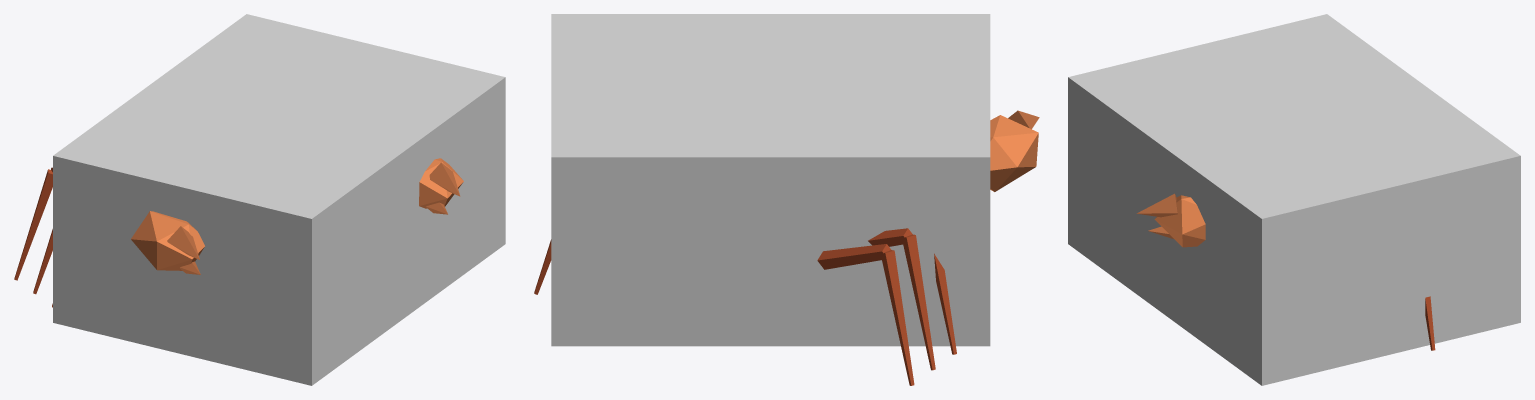
Rendered from plains_giant_crab.fbx.
3 views of the same model, side by side, from view 1: azimuth 30°, elevation 25°; view 2: azimuth 150°, elevation 25°; view 3: azimuth 270°, elevation 25° (orthographic). The views are drawn at different scales.
Visible parts, largest first — view 1: Root__0.00_1.99_-1.40__8.41_4.00_6.49, ArmR__Body__1.79_2.20_-1.14, ArmL__Body__-1.79_2.20_-1.14, LegR3__Body__1.88_1.88_1.22; view 2: Root__0.00_1.99_-1.40__8.41_4.00_6.49, ArmR__Body__1.79_2.20_-1.14, LegR3__Body__1.88_1.88_1.22, LegR2__Body__1.88_1.88_0.41, LegR1__Body__1.88_1.88_-0.41; view 3: Root__0.00_1.99_-1.40__8.41_4.00_6.49, ArmL__Body__-1.79_2.20_-1.14.
Boxes of the visible parts, bbox=[...] form: Root__0.00_1.99_-1.40__8.41_4.00_6.49: bbox=[53, 14, 505, 385]; ArmR__Body__1.79_2.20_-1.14: bbox=[131, 211, 204, 274]; ArmL__Body__-1.79_2.20_-1.14: bbox=[419, 158, 463, 214]; LegR3__Body__1.88_1.88_1.22: bbox=[14, 167, 52, 280]; Root__0.00_1.99_-1.40__8.41_4.00_6.49: bbox=[551, 14, 990, 346]; ArmR__Body__1.79_2.20_-1.14: bbox=[990, 110, 1039, 191]; LegR3__Body__1.88_1.88_1.22: bbox=[817, 244, 914, 385]; LegR2__Body__1.88_1.88_0.41: bbox=[868, 228, 935, 370]; LegR1__Body__1.88_1.88_-0.41: bbox=[934, 253, 956, 354]; Root__0.00_1.99_-1.40__8.41_4.00_6.49: bbox=[1068, 14, 1520, 385]; ArmL__Body__-1.79_2.20_-1.14: bbox=[1137, 193, 1205, 247].
Size of the model in its own units: 295 by 112 by 275.
Materials: 1 (1 with a texture image).
